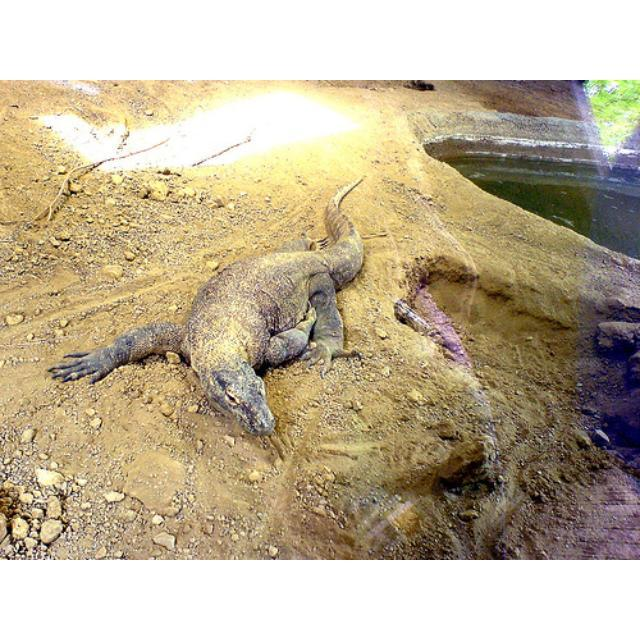KomodoDragon: (44, 171, 364, 439)
